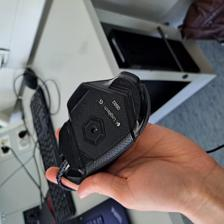mouse: (58, 70, 151, 181)
